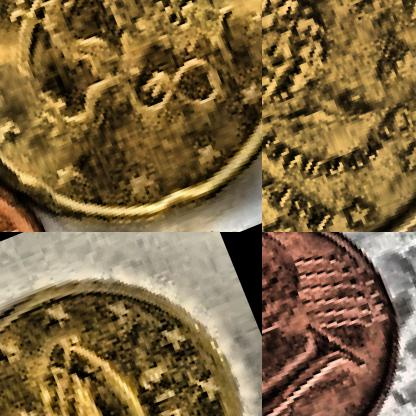coin: (0, 0, 261, 231), (0, 232, 261, 415), (262, 0, 415, 231), (262, 232, 415, 415)
